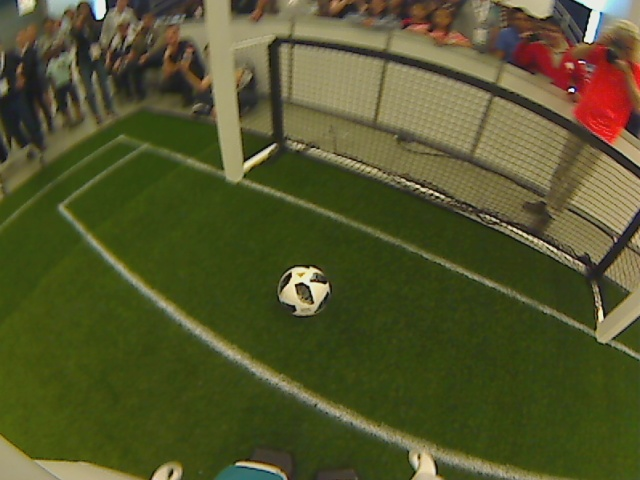ball: (277, 263, 331, 315)
